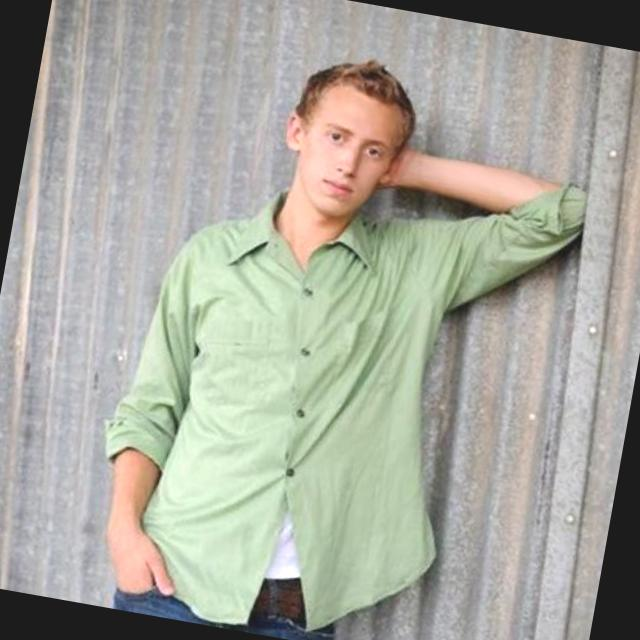shirt: (73, 108, 592, 640)
